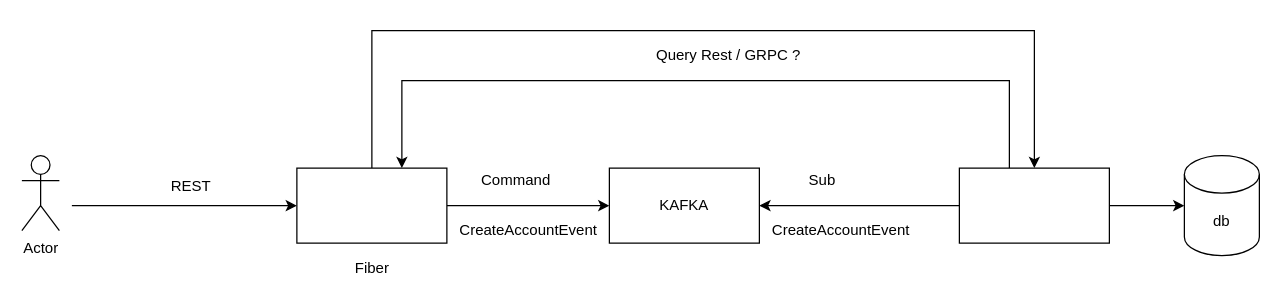
This 1281x303 diagram has some shape labels left out. Here are the shapes that lost their labels. From the top down, the box of each, then its label:
(296, 167, 447, 243): AccountGateway
(958, 167, 1109, 243): AccountService
